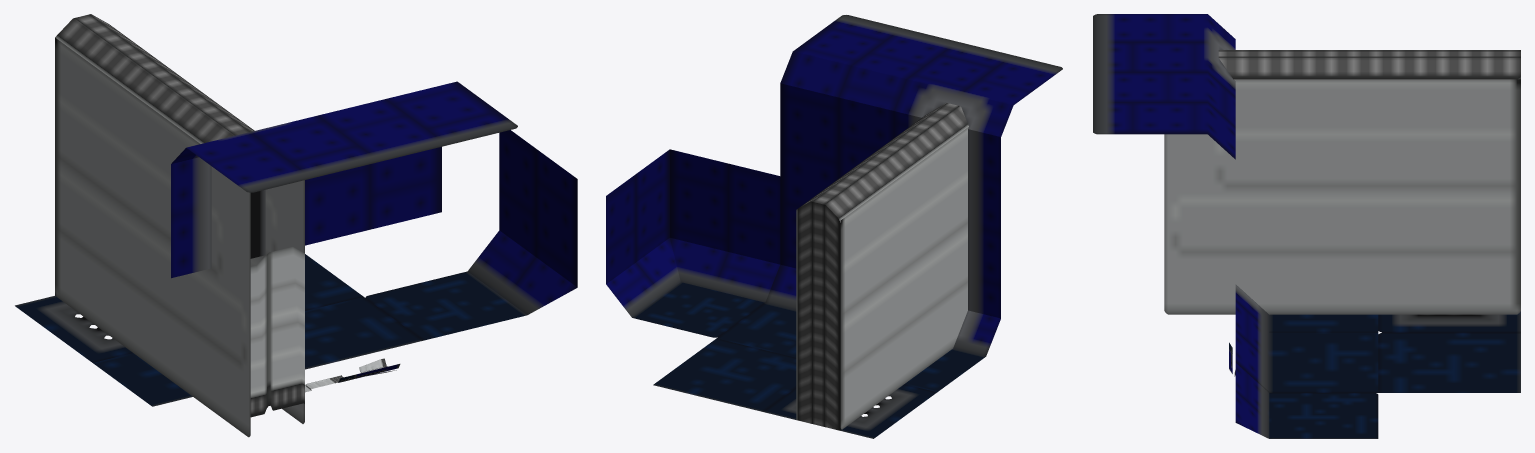
The picture shows the model from 3 angles, left to right: view 1: azimuth 30°, elevation 25°; view 2: azimuth 150°, elevation 25°; view 3: azimuth 270°, elevation 25°; orthographic projection. The views are drawn at different scales.
Visible parts, largest first — view 1: door, wall corner, wall top, wall top.001, wall, floor.001, wall.001, floor, pipe; view 2: door, wall corner, wall top, wall top.001, floor, wall.001, wall, floor.001; view 3: door, wall, floor, wall top, wall top.001, wall corner, wall.001, floor.001.
Boxes of the visible parts, x1,y1,x2,y2 form: door: (55,14,304,437); wall corner: (365,130,577,340); wall top: (306,81,517,245); wall top.001: (171,114,384,278); wall: (305,297,423,369); floor.001: (15,295,132,362); wall.001: (93,353,192,406); floor: (305,254,363,310); pipe: (305,358,400,392); door: (796,102,968,430); wall corner: (606,149,780,337); wall top: (780,15,953,187); wall top.001: (890,41,1062,229); floor: (653,338,796,411); wall.001: (904,222,1000,392); wall: (717,176,826,357); floor.001: (764,384,936,438); door: (1164,50,1520,314); wall: (1235,302,1378,392); floor: (1378,332,1520,392); wall top: (1093,74,1235,159); wall top.001: (1093,14,1235,98); wall corner: (1235,363,1378,438); wall.001: (1235,284,1378,332); floor.001: (1378,311,1520,332).
Bounding box in the file's own units: 600 × 409 × 600.
